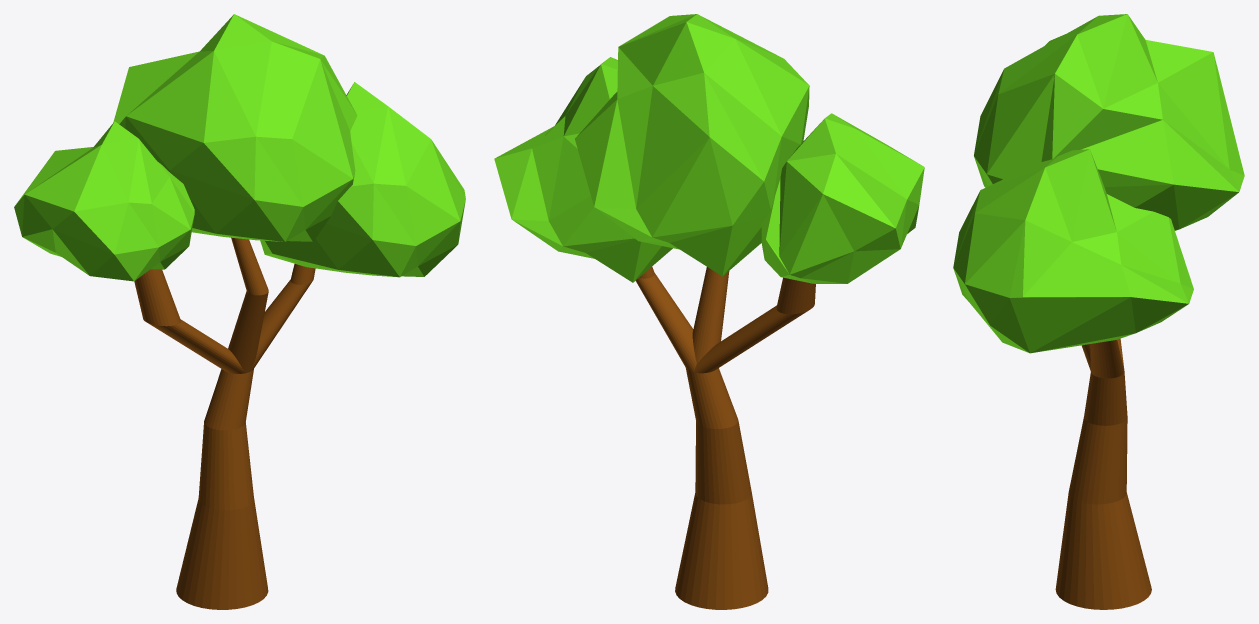
File: SM_Generic_Tree_04.fbx
3 renders of one model, left to right at view 1: azimuth 30°, elevation 25°; view 2: azimuth 150°, elevation 25°; view 3: azimuth 270°, elevation 25°, orthographic. The views are drawn at different scales.
Visible parts, largest first — view 1: Icosphere.002, Cylinder, Icosphere.001, Icosphere; view 2: Icosphere.002, Cylinder, Icosphere, Icosphere.001; view 3: Icosphere.002, Icosphere.001, Cylinder.
Part boxes in pixels (x1=…): Icosphere.002: x1=113, y1=14, x2=357, y2=241; Cylinder: x1=134, y1=237, x2=315, y2=609; Icosphere.001: x1=260, y1=82, x2=465, y2=277; Icosphere: x1=14, y1=121, x2=194, y2=281; Icosphere.002: x1=575, y1=14, x2=809, y2=276; Cylinder: x1=636, y1=266, x2=815, y2=609; Icosphere: x1=761, y1=113, x2=924, y2=283; Icosphere.001: x1=494, y1=57, x2=672, y2=282; Icosphere.002: x1=974, y1=14, x2=1244, y2=230; Icosphere.001: x1=953, y1=149, x2=1193, y2=353; Cylinder: x1=1055, y1=338, x2=1151, y2=609.
Size of the model in its own units: 486 by 651 by 293.
